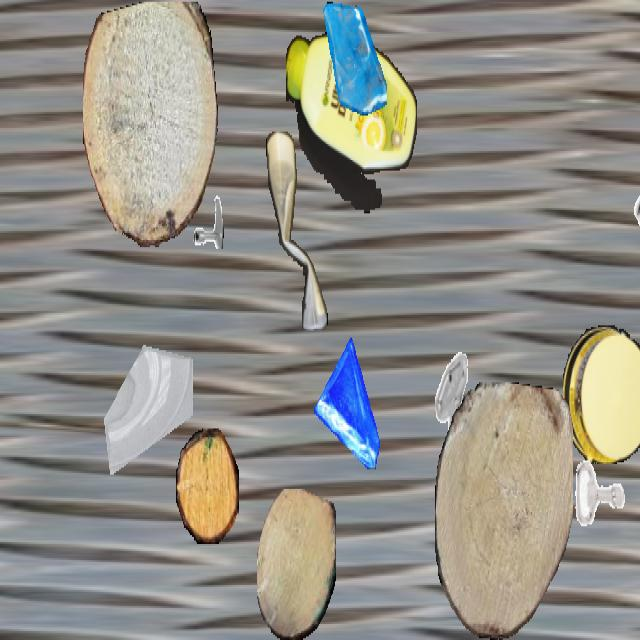glass: (100, 309, 192, 473), (314, 338, 388, 469), (323, 1, 387, 116)
metal: (569, 439, 631, 549), (421, 349, 481, 455), (182, 174, 224, 249), (631, 190, 640, 276)
plastic: (286, 32, 416, 213), (266, 132, 328, 330), (563, 325, 640, 464)
wood: (435, 382, 573, 638), (83, 2, 217, 247), (257, 489, 335, 638), (176, 428, 238, 542)
